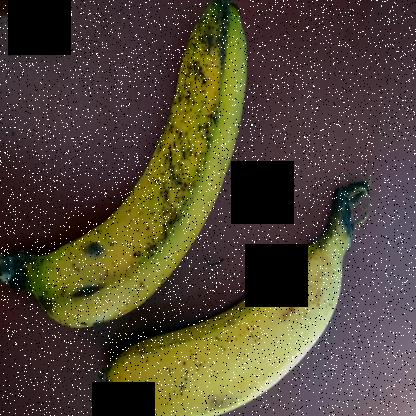ripe: (33, 3, 255, 324), (105, 243, 367, 415)
